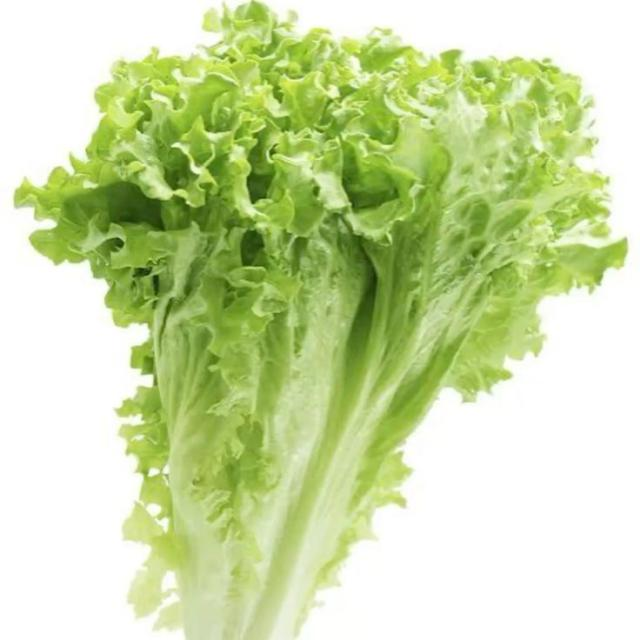lettuce: (16, 2, 625, 639)
